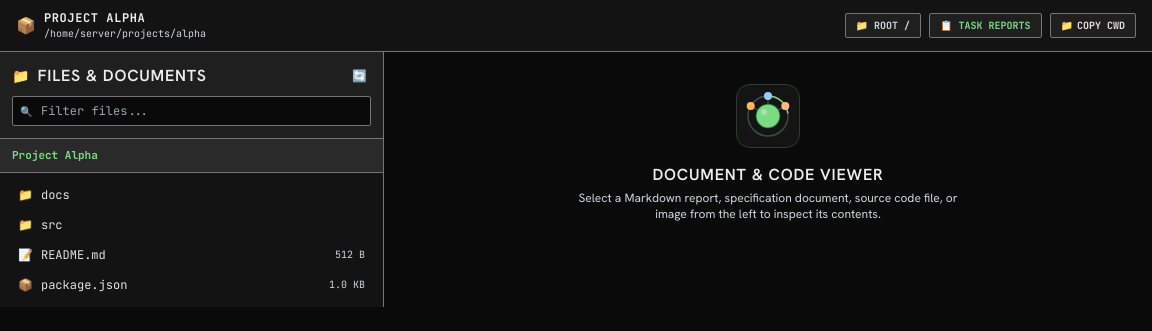
Test: ProjectExplorer Component › shows no Notes deep link for markdown under docs/ (SilverBullet removed)
Click the text "docs" at [55, 194], box [41,186,70,202]
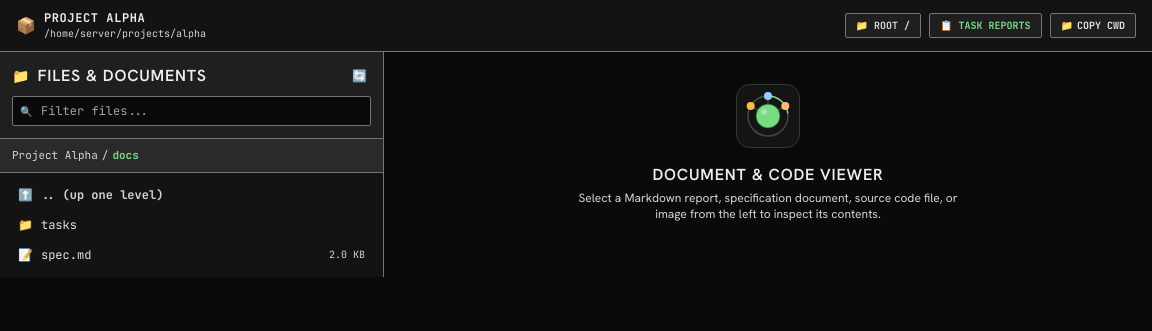
Result: the text "spec.md" is shown
Click the text "spec.md" at [66, 254], box [41,246,91,262]
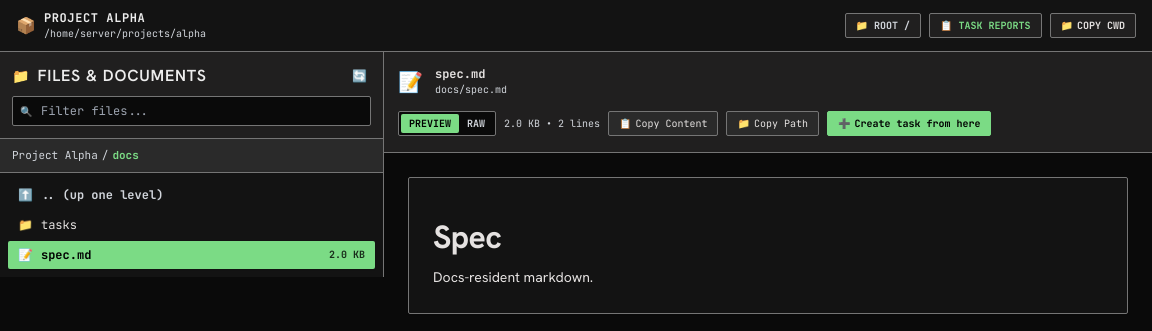
Result: the text "Docs-resident markdown." is shown at [433,268,593,286]
Result: the button "📁 Copy Path" is shown at [726,111,819,136]
